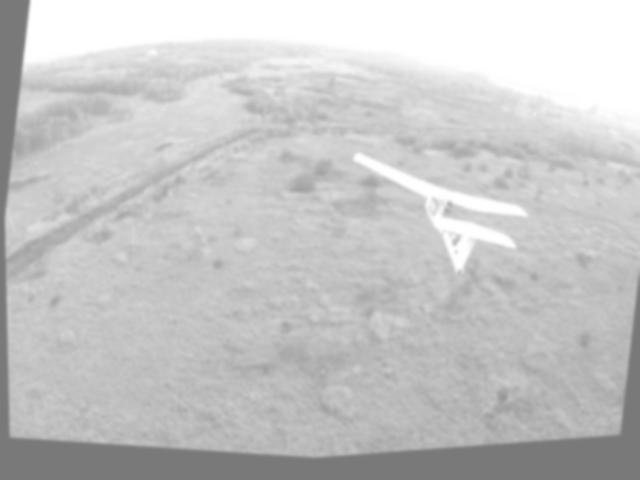hedef: (328, 146, 547, 304)
